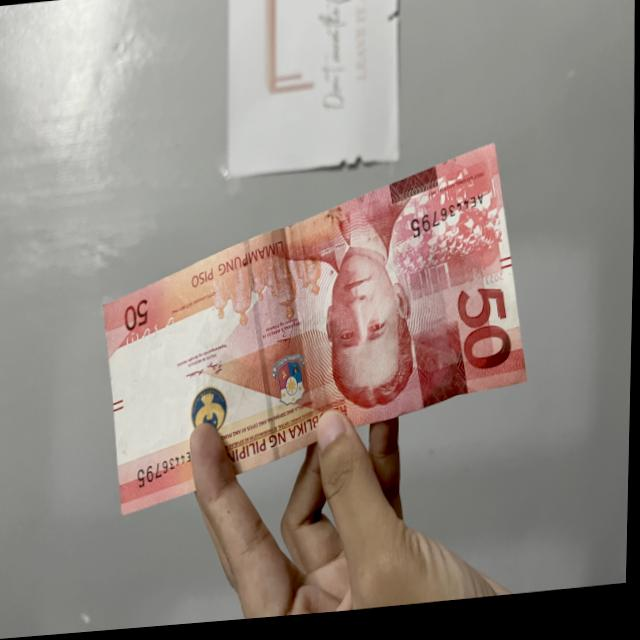concealed_value: (412, 322, 468, 414)
value: (447, 277, 523, 397)
